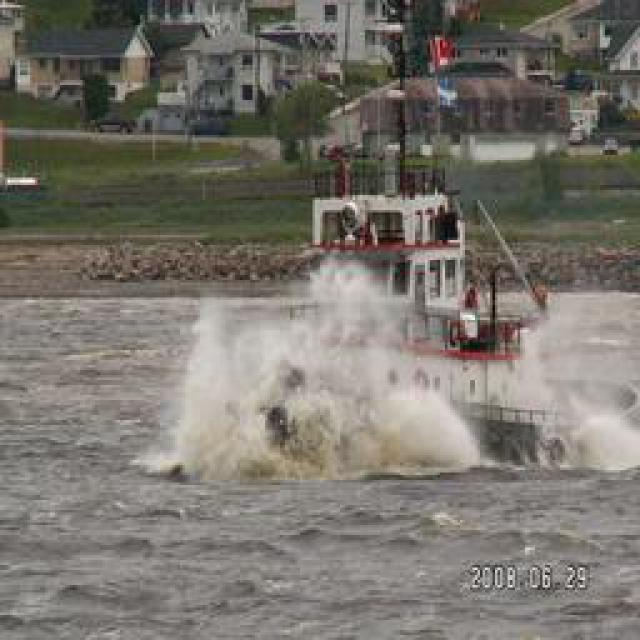Ship: (177, 68, 611, 486)
